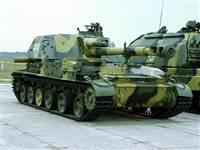sau: (11, 24, 198, 125), (128, 28, 200, 92)
